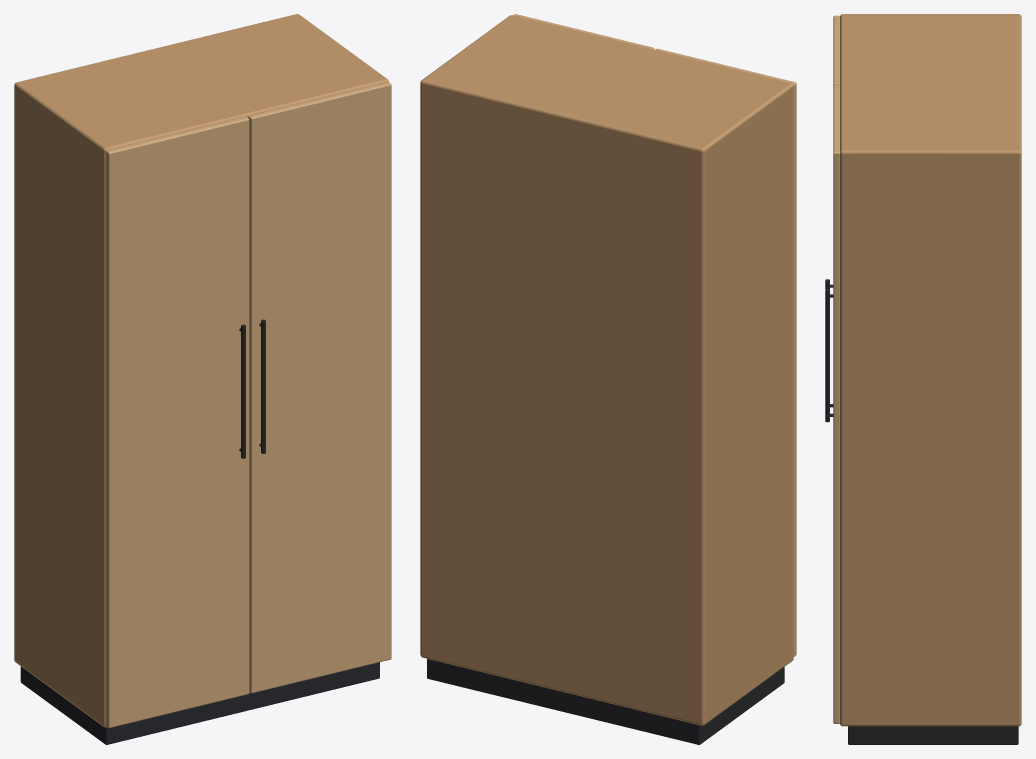
The model's file is wardrobe.glb.
3 renders of one model, left to right at view 1: azimuth 30°, elevation 25°; view 2: azimuth 150°, elevation 25°; view 3: azimuth 270°, elevation 25°, orthographic.
Parts seen in each view (by area): view 1: wardrobe_oak, wardrobe_wood, wardrobe_dark; view 2: wardrobe_wood, wardrobe_dark, wardrobe_oak; view 3: wardrobe_wood, wardrobe_oak, wardrobe_dark.
Boxes of the visible parts, left/top/right/bottom form: wardrobe_oak: left=106, top=82, right=391, bottom=727; wardrobe_wood: left=14, top=14, right=388, bottom=727; wardrobe_dark: left=20, top=319, right=379, bottom=744; wardrobe_wood: left=420, top=15, right=793, bottom=725; wardrobe_dark: left=427, top=659, right=784, bottom=744; wardrobe_oak: left=513, top=14, right=796, bottom=656; wardrobe_wood: left=839, top=14, right=1021, bottom=726; wardrobe_oak: left=833, top=15, right=839, bottom=723; wardrobe_dark: left=825, top=279, right=1018, bottom=744.
Size of the model in its own units: 1 by 2.01 by 0.6.
